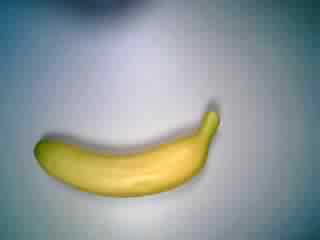banana: (31, 107, 223, 202)
